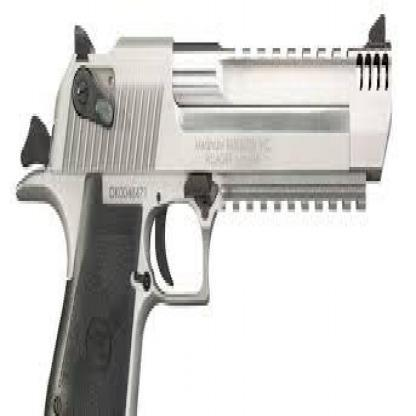Pistol: (13, 12, 392, 411)
